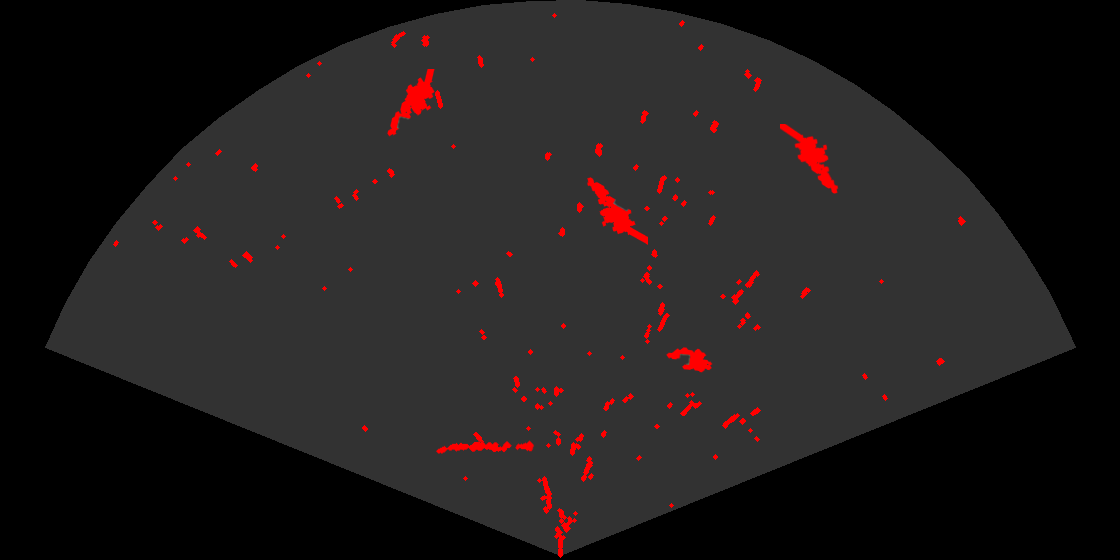AUV: (665, 346, 714, 374)
chain: (435, 439, 535, 455)
frogman: (586, 176, 648, 245), (780, 124, 840, 195), (386, 69, 436, 138)
